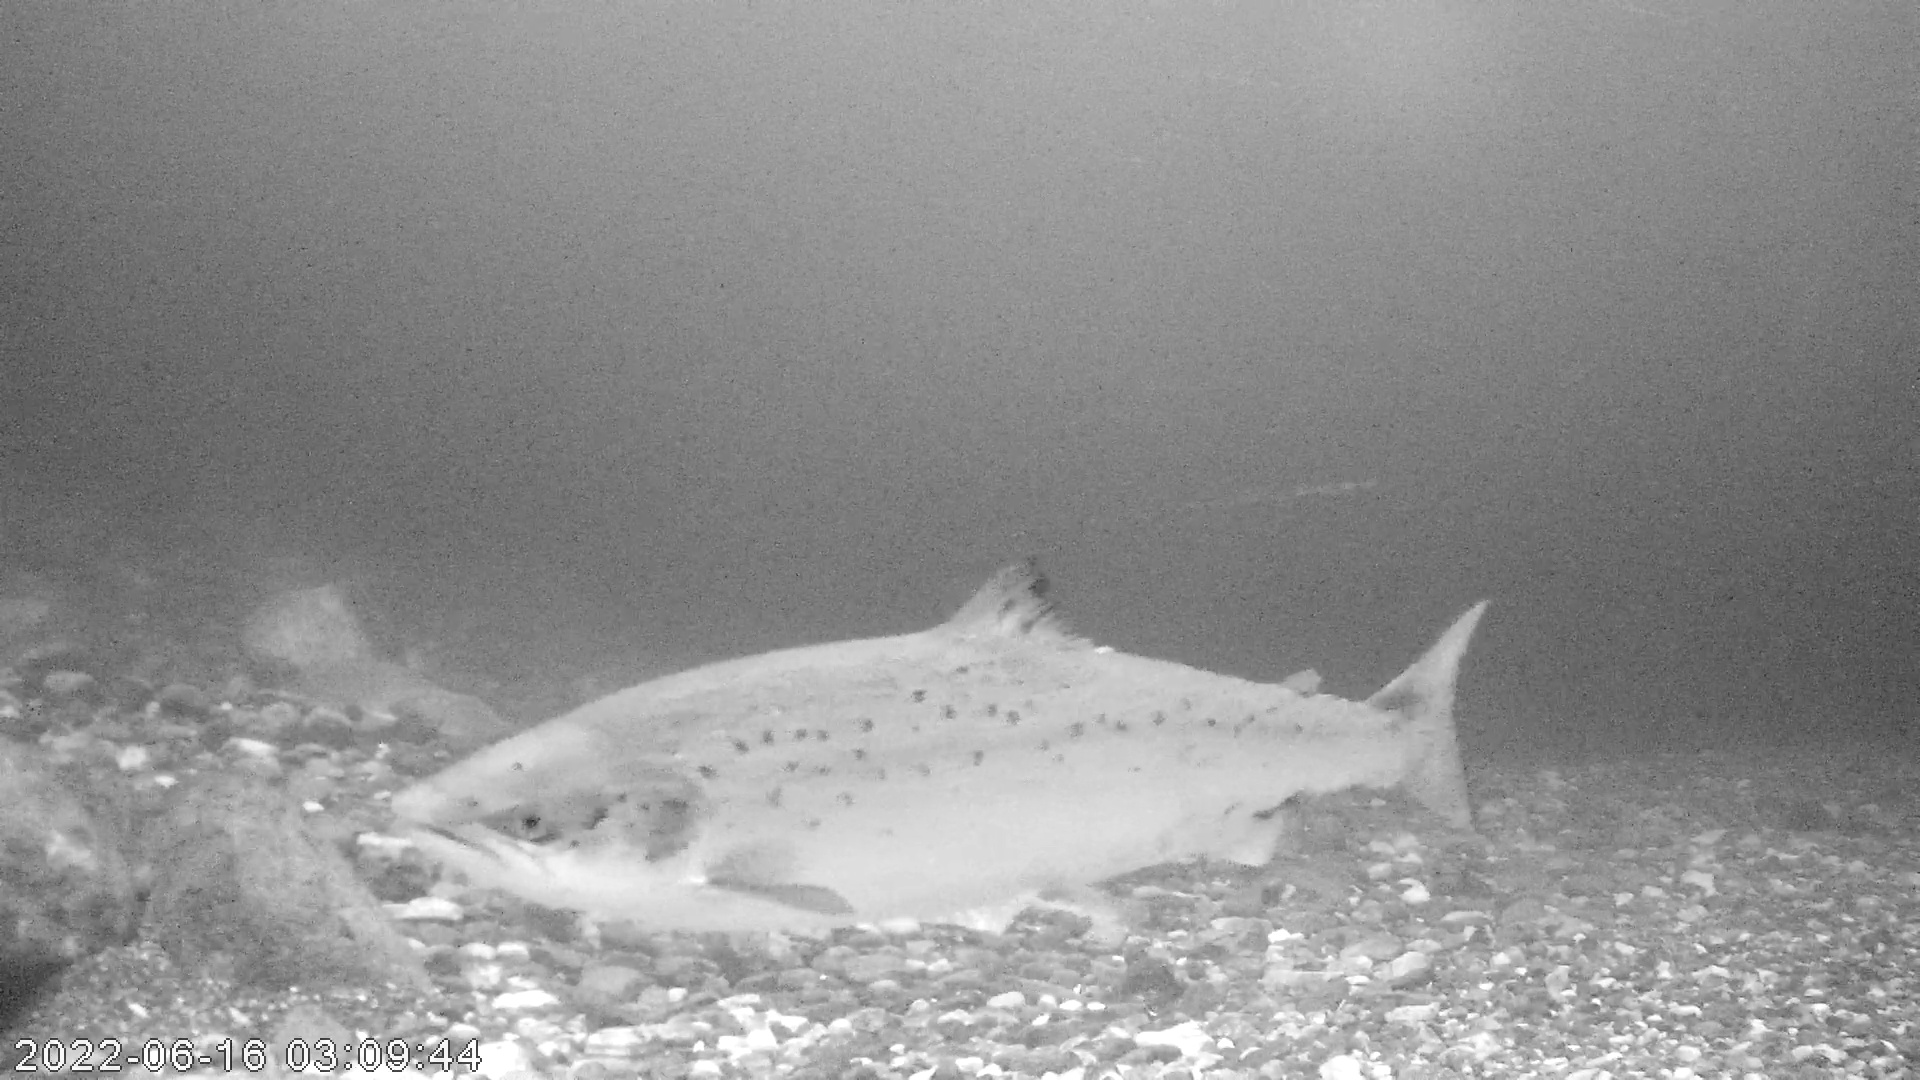salmon: (390, 556, 1489, 942)
